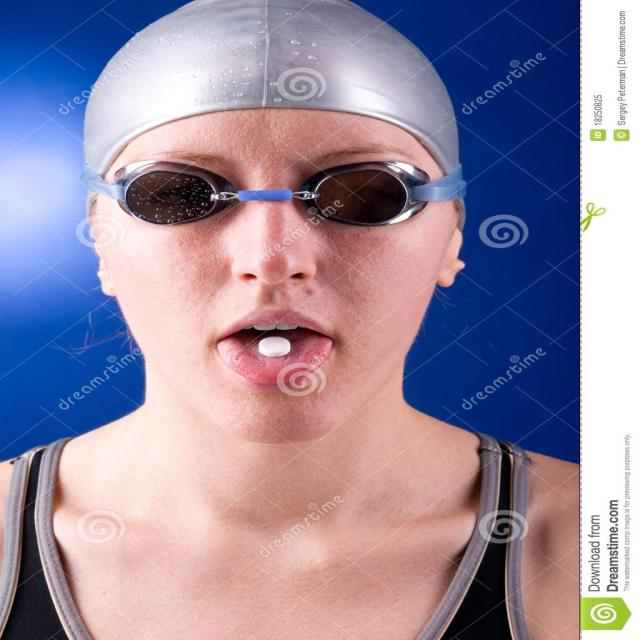Face: (81, 25, 474, 473)
